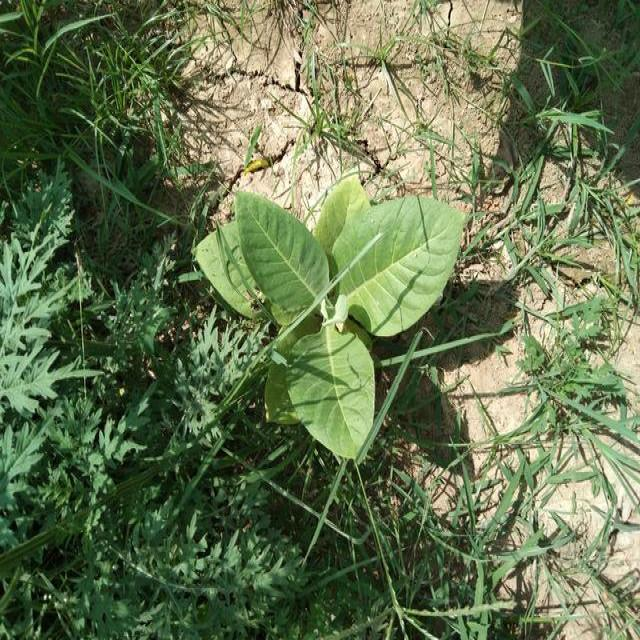crop: (209, 175, 456, 445)
